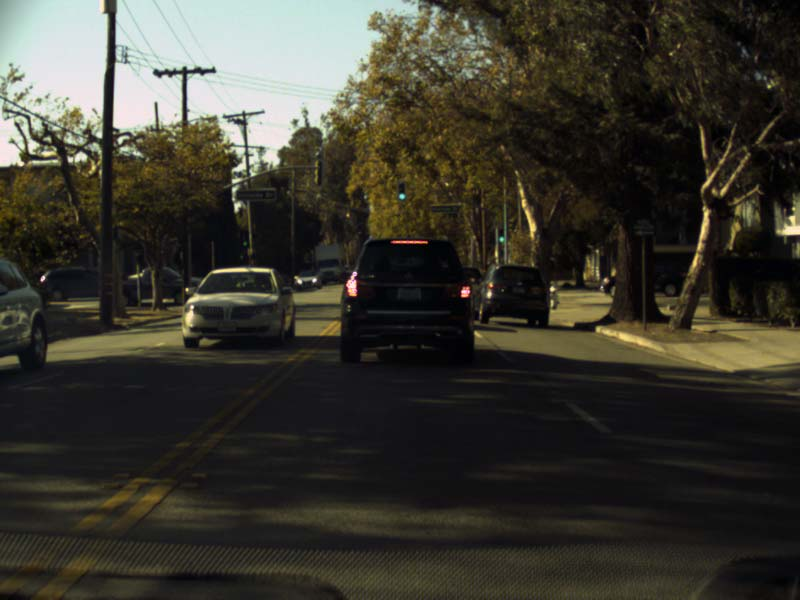Green: (397, 182, 406, 201), (240, 229, 249, 246), (498, 227, 503, 244)
